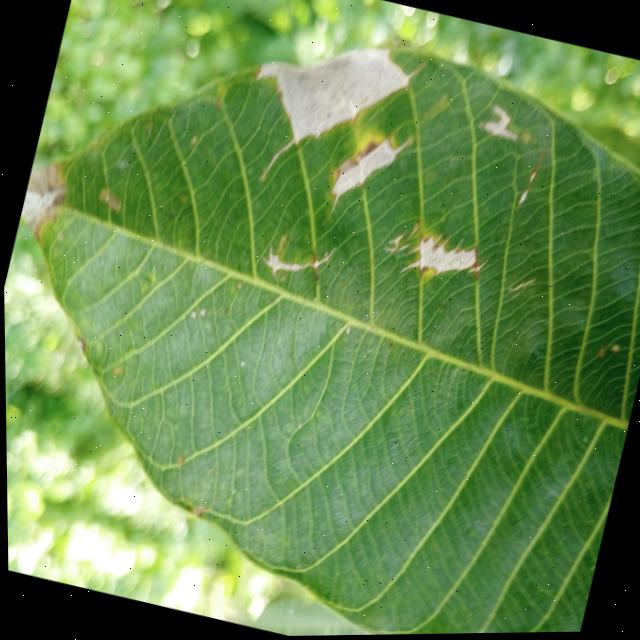Leaf-Blight: (242, 19, 417, 169), (323, 124, 409, 221), (13, 155, 71, 245), (409, 229, 478, 284)
